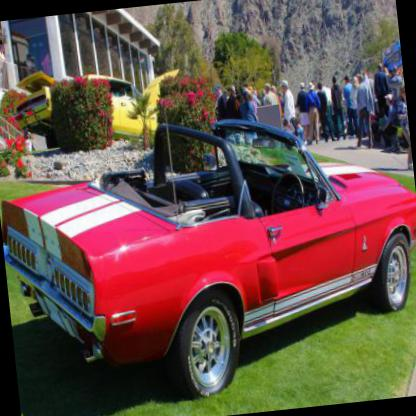car: (0, 79, 415, 415), (4, 66, 183, 150)
